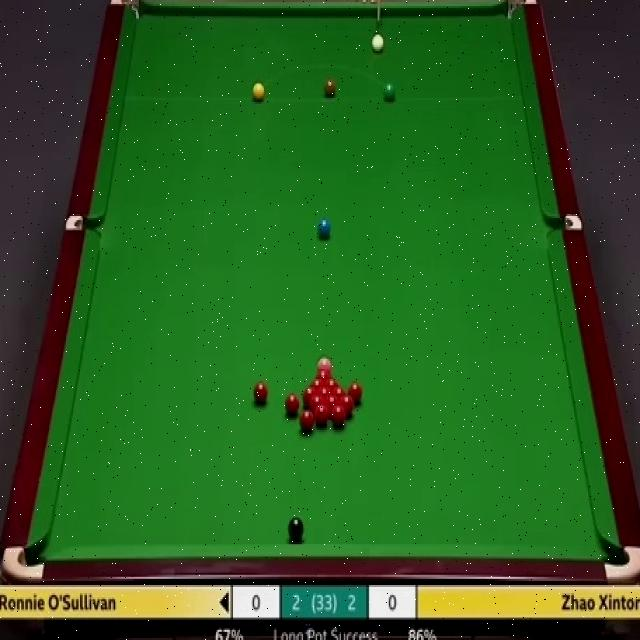black-ball: (286, 514, 304, 539)
blue-ball: (317, 219, 332, 236)
brown-ball: (325, 79, 336, 97)
green-ball: (382, 80, 397, 102)
pink-ball: (317, 360, 333, 375)
red-ball: (299, 409, 314, 434), (252, 381, 268, 403), (284, 392, 300, 414), (332, 404, 348, 426), (339, 395, 355, 417), (303, 386, 318, 408), (313, 404, 329, 424), (349, 383, 362, 404), (327, 376, 340, 396), (310, 378, 326, 392)
white-ball: (371, 33, 384, 54)
yellow-ball: (252, 82, 265, 102)
